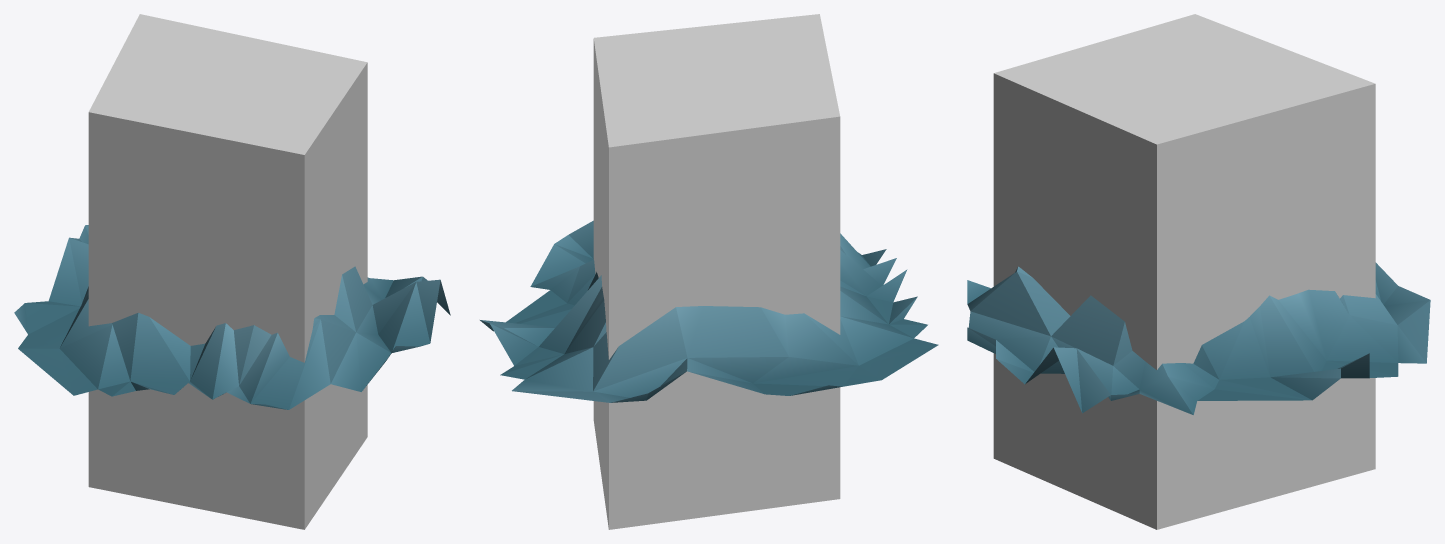
File: island_small_ice_Collection.fbx
3 renders of one model, left to right at view 1: azimuth 30°, elevation 25°; view 2: azimuth 150°, elevation 25°; view 3: azimuth 270°, elevation 25°, orthographic. The views are drawn at different scales.
Parts seen in each view (by area): view 1: islandRock_1_col, islandRock_1; view 2: islandRock_1_col, islandRock_1; view 3: islandRock_1_col, islandRock_1.
Part boxes in pixels (box(x1,y1,x2,y2)): islandRock_1_col: box(88, 14, 367, 529); islandRock_1: box(14, 225, 450, 409); islandRock_1_col: box(593, 14, 840, 529); islandRock_1: box(480, 220, 938, 402); islandRock_1_col: box(993, 14, 1375, 529); islandRock_1: box(967, 262, 1430, 414).
Bounding box in the file's own units: 2573 × 2538 × 2765.
